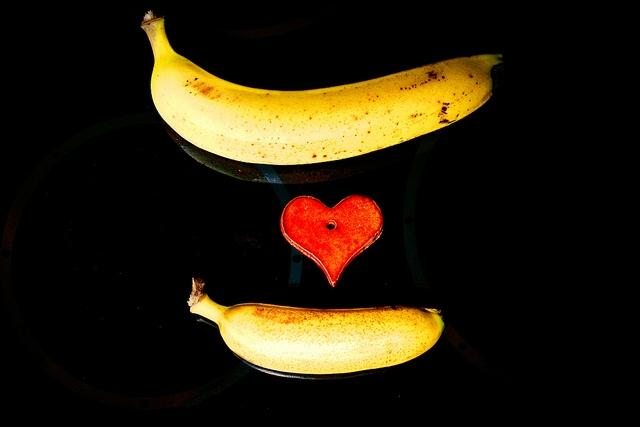banana: (141, 8, 504, 166), (186, 276, 444, 374)
